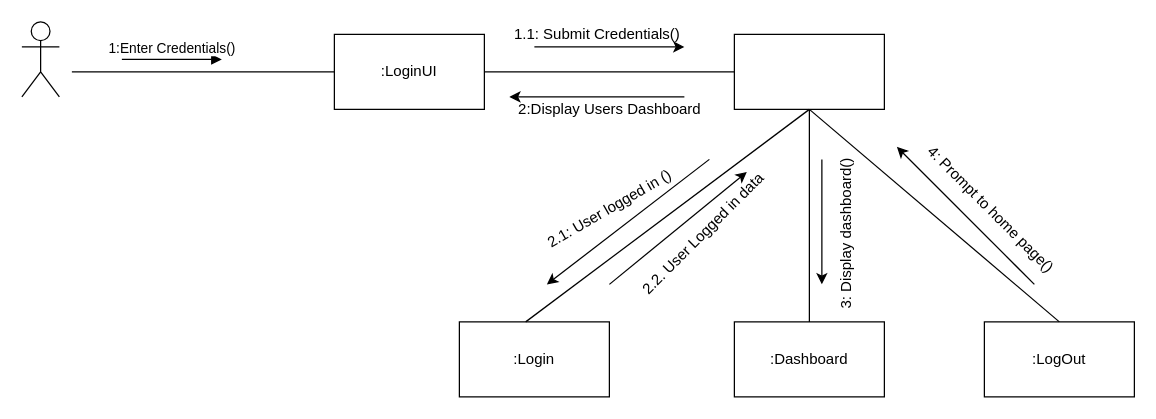
Some shapes in this 1156 by 419 pixel diagram are drawn without their labels. The centre of each missing label's shape, as x and y in pixels:
":UserLogin" goes at point 808,71.
"Actor" goes at point 40,59.
